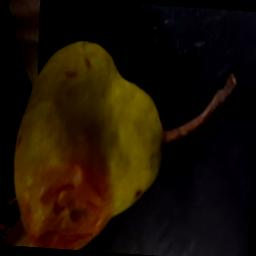Pear Rotten: (3, 23, 243, 256)
